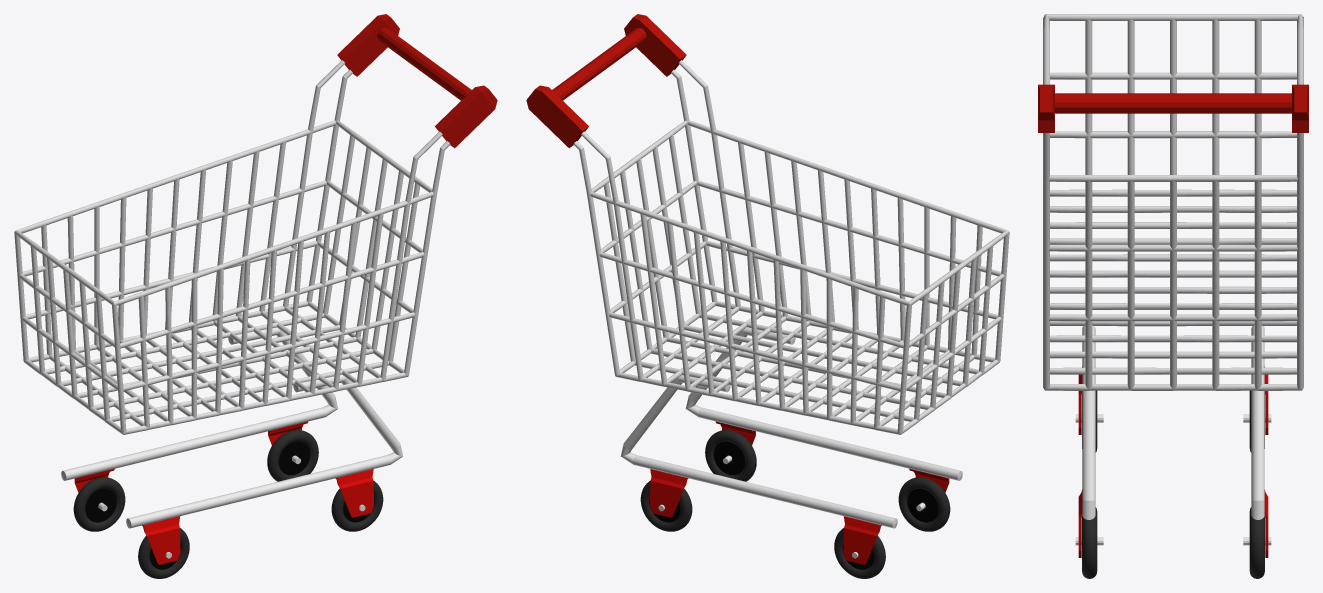
The model's file is cart.fbx.
3 renders of one model, left to right at view 1: azimuth 30°, elevation 25°; view 2: azimuth 150°, elevation 25°; view 3: azimuth 270°, elevation 25°, orthographic. The views are drawn at different scales.
Visible parts, largest first — view 1: Cart, Legs, Handle Holder, Handle, WheelAttachment.009, WheelAttachment.001, WheelAttachment, WheelAttachment.013, WheelAttachment.004, WheelAttachment.002, WheelAttachment.010, WheelAttachment.014; view 2: Cart, Legs, Handle Holder, Handle, WheelAttachment.002, WheelAttachment.008, WheelAttachment.012, WheelAttachment.004, WheelAttachment.013, WheelAttachment.009, WheelAttachment.003, WheelAttachment.005; view 3: Cart, Handle, Legs, Handle Holder, WheelAttachment.004, WheelAttachment.013.
Boxes of the visible parts, x1,y1,x2,y2 form: Cart: [14, 60, 450, 434]; Legs: [61, 327, 403, 528]; Handle Holder: [337, 14, 497, 148]; Handle: [377, 28, 471, 100]; WheelAttachment.009: [73, 477, 125, 531]; WheelAttachment.001: [142, 516, 180, 564]; WheelAttachment: [335, 469, 373, 517]; WheelAttachment.013: [267, 430, 318, 481]; WheelAttachment.004: [331, 480, 383, 531]; WheelAttachment.002: [138, 528, 189, 578]; WheelAttachment.010: [74, 488, 116, 522]; WheelAttachment.014: [268, 441, 310, 475]; Cart: [573, 60, 1009, 434]; Legs: [620, 327, 962, 528]; Handle Holder: [526, 14, 686, 148]; Handle: [552, 28, 646, 100]; WheelAttachment.002: [898, 477, 950, 531]; WheelAttachment.008: [843, 516, 881, 564]; WheelAttachment.012: [650, 469, 688, 517]; WheelAttachment.004: [705, 430, 756, 481]; WheelAttachment.013: [640, 480, 692, 531]; WheelAttachment.009: [834, 528, 885, 578]; WheelAttachment.003: [907, 488, 949, 522]; WheelAttachment.005: [713, 441, 755, 475]; Cart: [1043, 14, 1303, 390]; Handle: [1055, 93, 1291, 113]; Legs: [1082, 325, 1264, 519]; Handle Holder: [1038, 84, 1308, 132]; WheelAttachment.004: [1082, 507, 1097, 578]; WheelAttachment.013: [1249, 507, 1264, 578].
Size of the model in its own units: 343 by 366 by 161.
